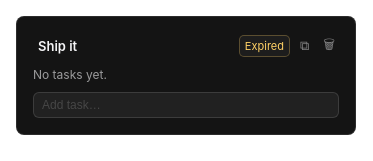
Test: AnimalDetail timer picker › shows Restart and Clear inside the dropdown when timer is Running
Step 1. Click the button with aria-label "edit focus timer" → click(264, 46), box [239, 35, 290, 57]
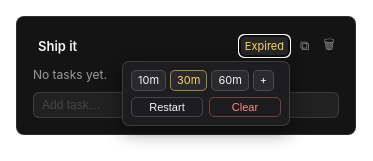
Now the button "Restart" is shown, box [131, 97, 203, 117]
Now the button "Clear" is shown, box [209, 97, 281, 117]
